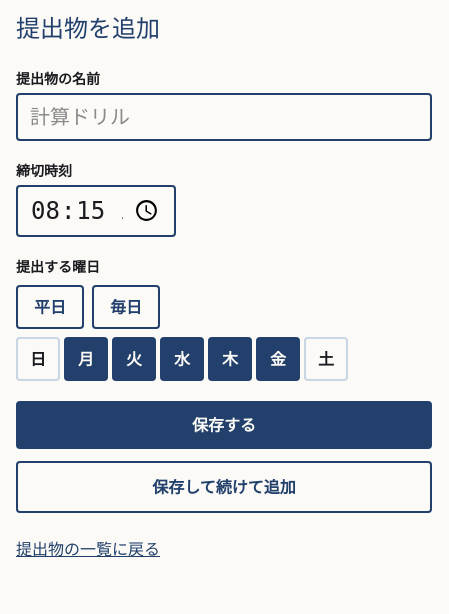
it: 入力の検証 › 名前が空ならエラーを出し保存しない
This screenshot has width=449, height=614.
Step 1. Click the button "保存する" → (224, 425), box [16,401,432,449]
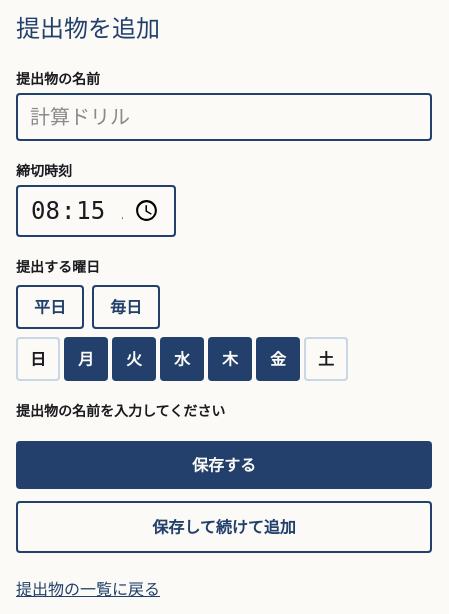
Expected: the text "提出物の名前を入力してください" is shown, [16,401,225,420]
